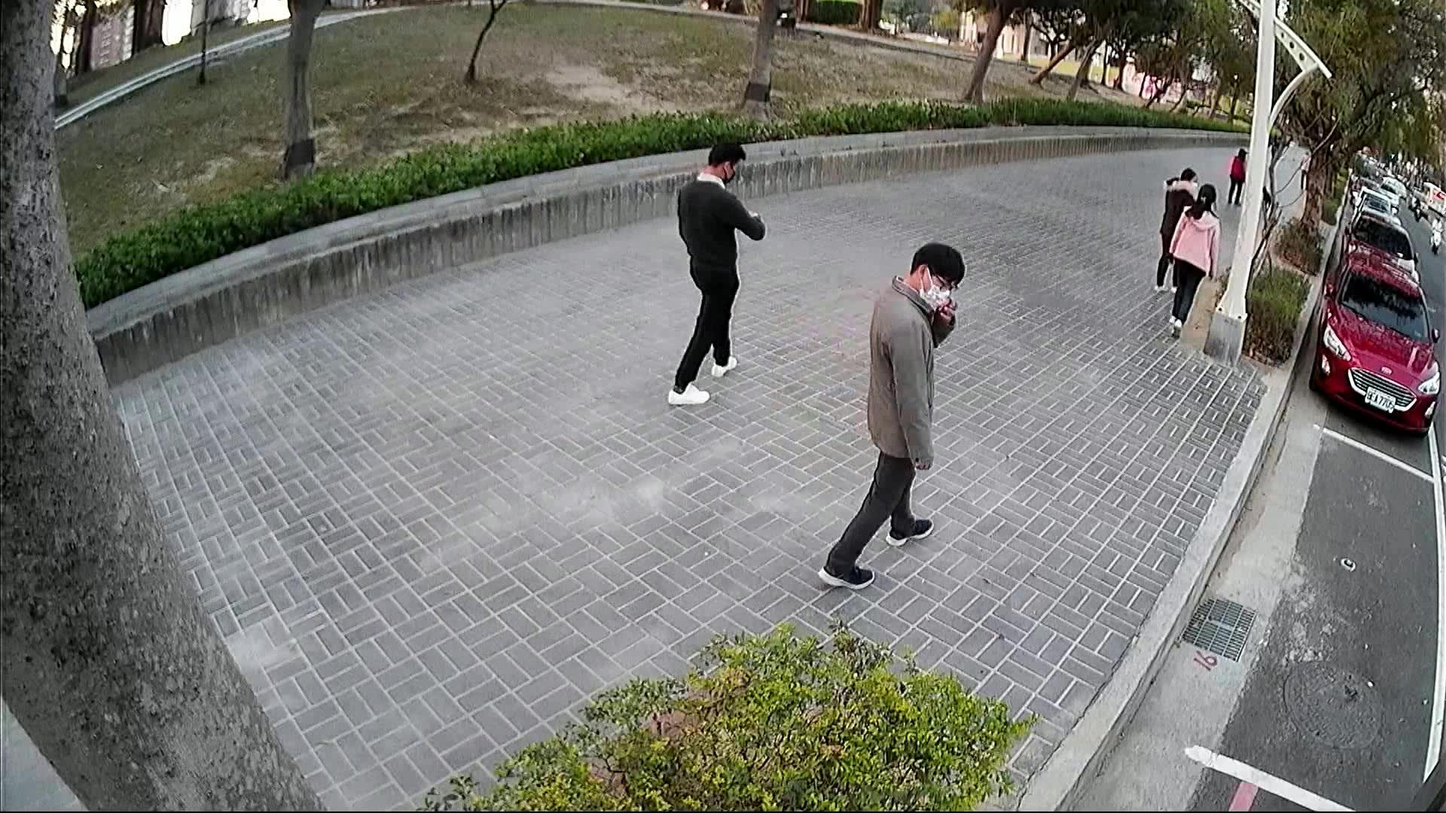person: (810, 233, 971, 593), (657, 128, 767, 410), (1156, 178, 1222, 340), (1144, 161, 1206, 294), (1221, 142, 1251, 210)
